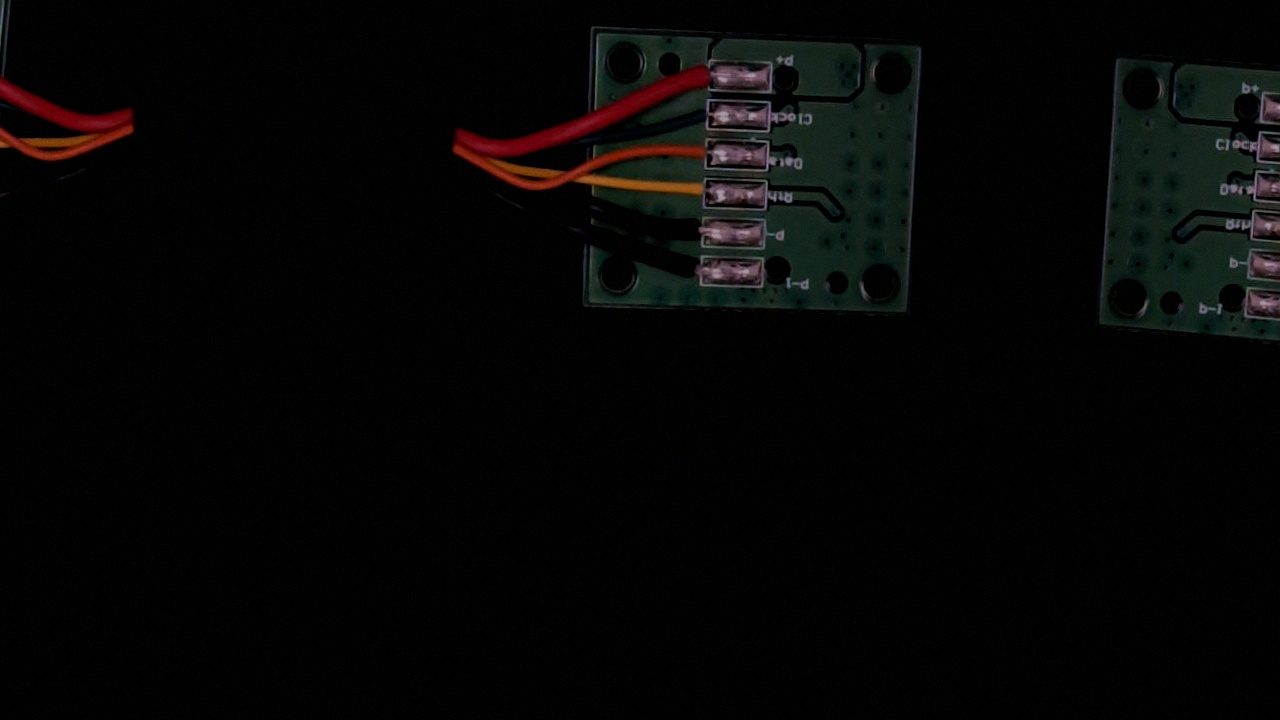Black: (656, 213, 720, 247)
Black1: (652, 253, 720, 290)
Green: (668, 96, 725, 133)
Orange: (659, 135, 724, 172)
Red: (654, 55, 726, 94)
Yellow: (655, 173, 721, 210)
